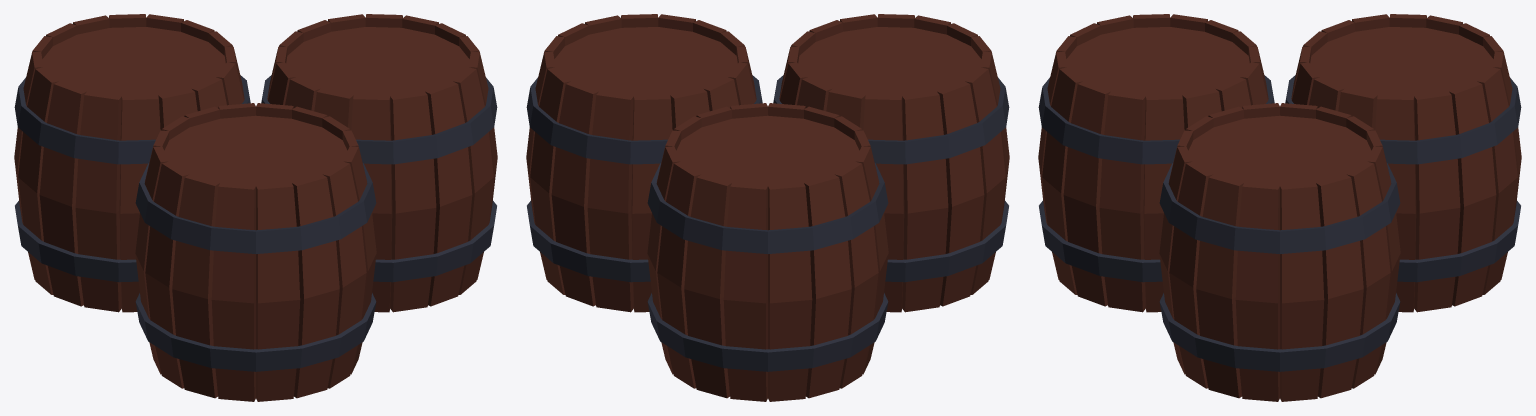
The model's file is SM_Barrel_Stack.fbx.
The picture shows the model from 3 angles, left to right: view 1: azimuth 30°, elevation 25°; view 2: azimuth 150°, elevation 25°; view 3: azimuth 270°, elevation 25°; orthographic projection.
Visible parts, largest first — view 1: Barrel_Stack_1; view 2: Barrel_Stack_1; view 3: Barrel_Stack_1.
Boxes of the visible parts, <box> form: Barrel_Stack_1: <box>14,14,497,401</box>; Barrel_Stack_1: <box>526,14,1009,401</box>; Barrel_Stack_1: <box>1038,14,1521,401</box>.
Size of the model in its own units: 249 by 266 by 129.
